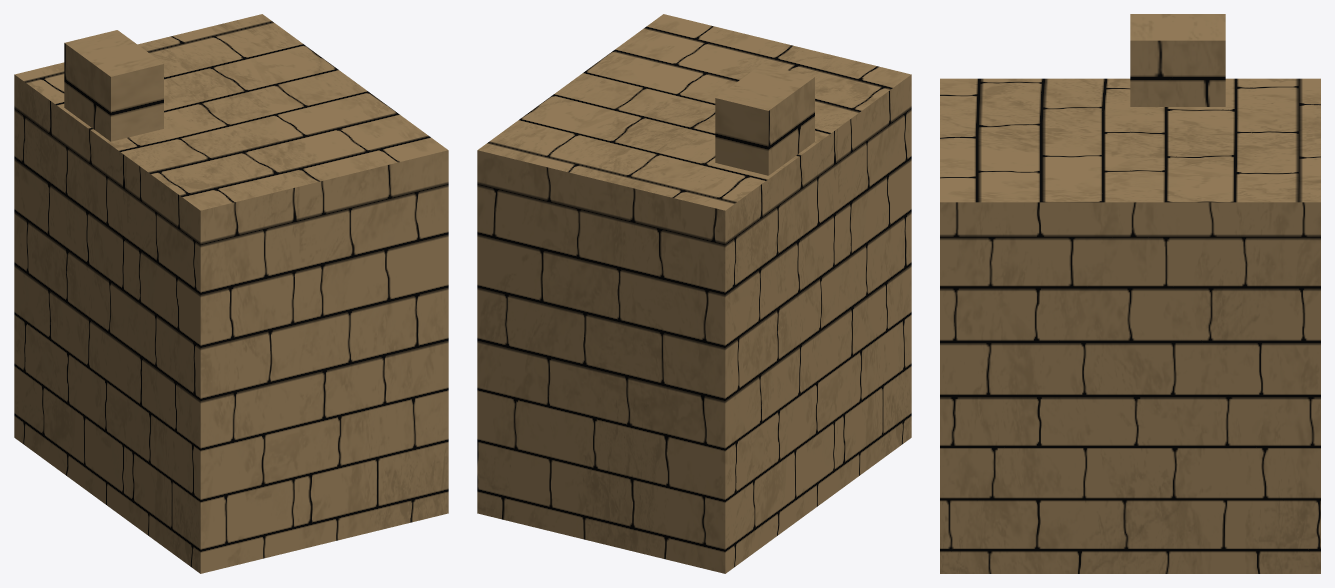
File: Herrería.fbx
3 renders of one model, left to right at view 1: azimuth 30°, elevation 25°; view 2: azimuth 150°, elevation 25°; view 3: azimuth 270°, elevation 25°, orthographic. The views are drawn at different scales.
Parts seen in each view (by area): view 1: Box001; view 2: Box001; view 3: Box001.
Boxes of the visible parts, x1,y1,x2,y2 form: Box001: [14, 14, 448, 573]; Box001: [477, 14, 911, 573]; Box001: [940, 14, 1320, 573].
Size of the model in its own units: 1 by 1.65 by 1.3.
1 material, 1 textured.
